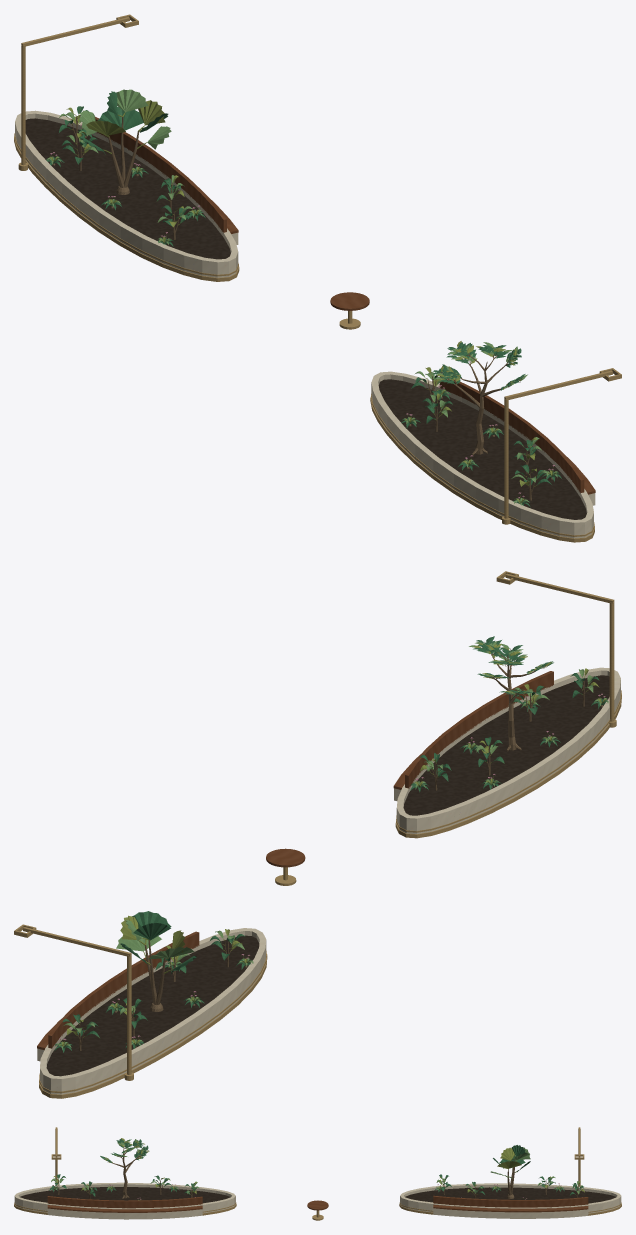
The model's file is G7_Completion_R006_G7C6_D12_ComposedEdge.glb.
3 renders of one model, top to bottom at view 1: azimuth 30°, elevation 25°; view 2: azimuth 150°, elevation 25°; view 3: azimuth 270°, elevation 25°, orthographic. The views are drawn at different scales.
Visible parts, largest first — view 1: G7C6_D12_ComposedEdge_G7C6_soil_solid_planter, G7C6_D12_ComposedEdge_G7C6_stone_solid_planter, G7C6_D12_ComposedEdge_G7C6_wood_solid_furniture, G7C6_D12_ComposedEdge_G7C6_metal_solid_planter, G7C6_D12_ComposedEdge_G7C6_metal_solid_fixture, G7C6_D12_ComposedEdge_ASTRAEA_botanical_leaf_jade.001_visual, G7C6_D12_ComposedEdge_ASTRAEA_botanical_leaf_sage.003_visual, G7C6_D12_ComposedEdge_ASTRAEA_botanical_leaf_jade.003_visual, G7C6_D12_ComposedEdge_ASTRAEA_botanical_leaf_jade_visual_fol, G7C6_D12_ComposedEdge_ASTRAEA_botanical_bark_solid_tree_bark, G7C6_D12_ComposedEdge_ASTRAEA_botanical_leaf_olive.003_visua, G7C6_D12_ComposedEdge_ASTRAEA_botanical_leaf_jade.002_visual (+3 smaller); view 2: G7C6_D12_ComposedEdge_G7C6_soil_solid_planter, G7C6_D12_ComposedEdge_G7C6_stone_solid_planter, G7C6_D12_ComposedEdge_G7C6_wood_solid_furniture, G7C6_D12_ComposedEdge_G7C6_metal_solid_planter, G7C6_D12_ComposedEdge_G7C6_metal_solid_fixture, G7C6_D12_ComposedEdge_ASTRAEA_botanical_leaf_jade.001_visual, G7C6_D12_ComposedEdge_ASTRAEA_botanical_leaf_jade.003_visual, G7C6_D12_ComposedEdge_ASTRAEA_botanical_leaf_jade_visual_fol, G7C6_D12_ComposedEdge_ASTRAEA_botanical_leaf_sage.003_visual, G7C6_D12_ComposedEdge_ASTRAEA_botanical_leaf_jade.002_visual, G7C6_D12_ComposedEdge_ASTRAEA_botanical_bark_solid_tree_bark, G7C6_D12_ComposedEdge_ASTRAEA_botanical_leaf_sage.001_visual; view 3: G7C6_D12_ComposedEdge_G7C6_wood_solid_furniture, G7C6_D12_ComposedEdge_G7C6_soil_solid_planter, G7C6_D12_ComposedEdge_G7C6_stone_solid_planter, G7C6_D12_ComposedEdge_G7C6_stone_solid_furniture, G7C6_D12_ComposedEdge_G7C6_metal_solid_planter, G7C6_D12_ComposedEdge_ASTRAEA_botanical_leaf_jade.001_visual, G7C6_D12_ComposedEdge_G7C6_metal_solid_fixture, G7C6_D12_ComposedEdge_ASTRAEA_botanical_leaf_jade_visual_fol, G7C6_D12_ComposedEdge_ASTRAEA_botanical_leaf_olive.003_visua, G7C6_D12_ComposedEdge_ASTRAEA_botanical_leaf_sage.001_visual, G7C6_D12_ComposedEdge_ASTRAEA_botanical_bark_solid_tree_bark, G7C6_D12_ComposedEdge_ASTRAEA_botanical_leaf_jade.003_visual (+4 smaller).
Part boxes in pixels (x1=…): G7C6_D12_ComposedEdge_G7C6_soil_solid_planter: x1=25, y1=118, x2=586, y2=519; G7C6_D12_ComposedEdge_G7C6_stone_solid_planter: x1=15, y1=110, x2=593, y2=538; G7C6_D12_ComposedEdge_G7C6_wood_solid_furniture: x1=95, y1=116, x2=595, y2=494; G7C6_D12_ComposedEdge_G7C6_metal_solid_planter: x1=14, y1=133, x2=594, y2=542; G7C6_D12_ComposedEdge_G7C6_metal_solid_fixture: x1=18, y1=14, x2=621, y2=524; G7C6_D12_ComposedEdge_ASTRAEA_botanical_leaf_jade.001_visual: x1=59, y1=106, x2=551, y2=485; G7C6_D12_ComposedEdge_ASTRAEA_botanical_leaf_sage.003_visual: x1=79, y1=89, x2=171, y2=149; G7C6_D12_ComposedEdge_ASTRAEA_botanical_leaf_jade.003_visual: x1=79, y1=91, x2=168, y2=154; G7C6_D12_ComposedEdge_ASTRAEA_botanical_leaf_jade_visual_fol: x1=432, y1=342, x2=525, y2=390; G7C6_D12_ComposedEdge_ASTRAEA_botanical_bark_solid_tree_bark: x1=439, y1=353, x2=520, y2=455; G7C6_D12_ComposedEdge_ASTRAEA_botanical_leaf_olive.003_visua: x1=86, y1=100, x2=165, y2=154; G7C6_D12_ComposedEdge_ASTRAEA_botanical_leaf_jade.002_visual: x1=45, y1=130, x2=561, y2=506; G7C6_D12_ComposedEdge_G7C6_soil_solid_planter: x1=46, y1=675, x2=609, y2=1076; G7C6_D12_ComposedEdge_G7C6_stone_solid_planter: x1=40, y1=667, x2=620, y2=1094; G7C6_D12_ComposedEdge_G7C6_wood_solid_furniture: x1=37, y1=671, x2=553, y2=1050; G7C6_D12_ComposedEdge_G7C6_metal_solid_planter: x1=39, y1=690, x2=621, y2=1098; G7C6_D12_ComposedEdge_G7C6_metal_solid_fixture: x1=14, y1=571, x2=616, y2=1080; G7C6_D12_ComposedEdge_ASTRAEA_botanical_leaf_jade.001_visual: x1=63, y1=673, x2=599, y2=1037; G7C6_D12_ComposedEdge_ASTRAEA_botanical_leaf_jade.003_visual: x1=120, y1=911, x2=196, y2=973; G7C6_D12_ComposedEdge_ASTRAEA_botanical_leaf_jade_visual_fol: x1=473, y1=636, x2=553, y2=694; G7C6_D12_ComposedEdge_ASTRAEA_botanical_leaf_sage.003_visual: x1=116, y1=920, x2=194, y2=959; G7C6_D12_ComposedEdge_ASTRAEA_botanical_leaf_jade.002_visual: x1=54, y1=698, x2=608, y2=1052; G7C6_D12_ComposedEdge_ASTRAEA_botanical_bark_solid_tree_bark: x1=482, y1=642, x2=547, y2=751; G7C6_D12_ComposedEdge_ASTRAEA_botanical_leaf_sage.001_visual: x1=63, y1=669, x2=593, y2=1032; G7C6_D12_ComposedEdge_G7C6_wood_solid_furniture: x1=47, y1=1195, x2=588, y2=1212; G7C6_D12_ComposedEdge_G7C6_soil_solid_planter: x1=20, y1=1187, x2=616, y2=1203; G7C6_D12_ComposedEdge_G7C6_stone_solid_planter: x1=14, y1=1182, x2=621, y2=1213; G7C6_D12_ComposedEdge_G7C6_stone_solid_furniture: x1=47, y1=1208, x2=588, y2=1219; G7C6_D12_ComposedEdge_G7C6_metal_solid_planter: x1=14, y1=1202, x2=621, y2=1215; G7C6_D12_ComposedEdge_ASTRAEA_botanical_leaf_jade.001_visual: x1=52, y1=1174, x2=583, y2=1196; G7C6_D12_ComposedEdge_G7C6_metal_solid_fixture: x1=51, y1=1127, x2=584, y2=1186; G7C6_D12_ComposedEdge_ASTRAEA_botanical_leaf_jade_visual_fol: x1=100, y1=1139, x2=148, y2=1162; G7C6_D12_ComposedEdge_ASTRAEA_botanical_leaf_olive.003_visua: x1=497, y1=1147, x2=521, y2=1177; G7C6_D12_ComposedEdge_ASTRAEA_botanical_leaf_sage.001_visual: x1=51, y1=1176, x2=583, y2=1194; G7C6_D12_ComposedEdge_ASTRAEA_botanical_bark_solid_tree_bark: x1=104, y1=1146, x2=141, y2=1198; G7C6_D12_ComposedEdge_ASTRAEA_botanical_leaf_jade.003_visual: x1=493, y1=1145, x2=530, y2=1171.
Bounding box in the file's own units: 3.43 × 3.39 × 27.45.
Materials: 22 (21 with a texture image).
